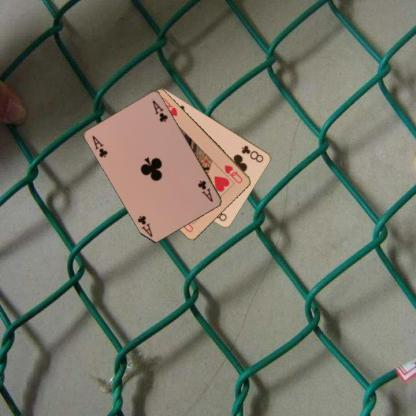8c: (238, 142, 264, 164)
Ac: (90, 133, 110, 159), (196, 178, 214, 203)
Qh: (222, 162, 244, 185)
